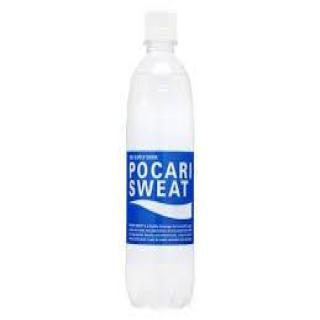Plastic-bottle: (126, 13, 197, 313)
